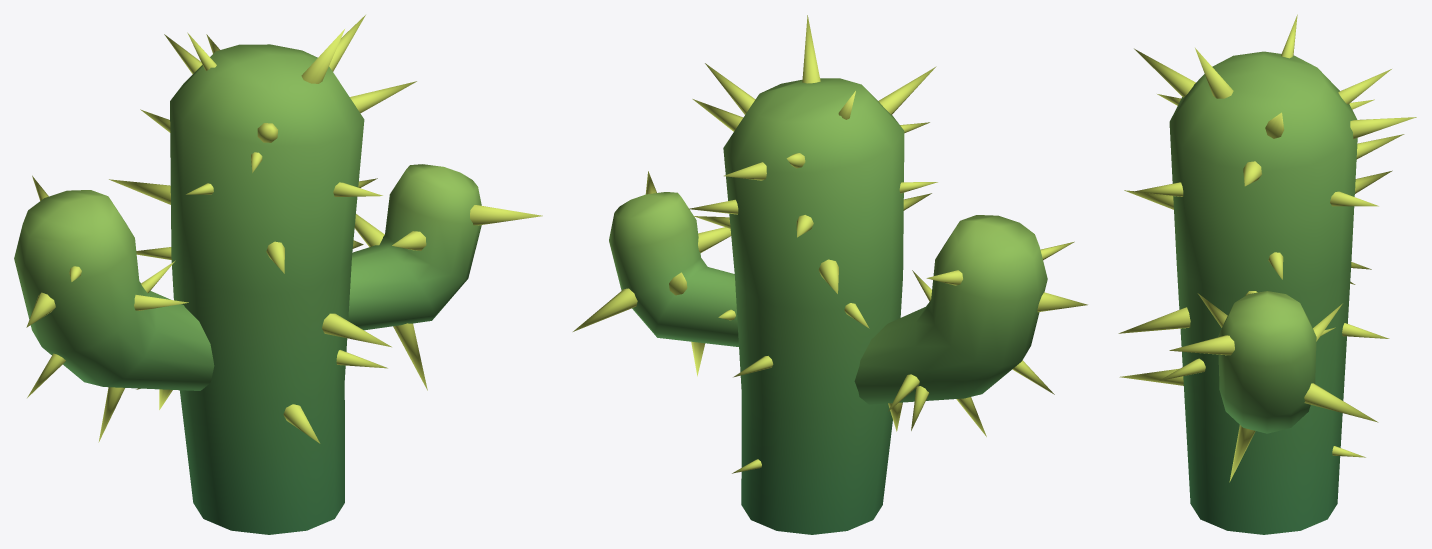
Rendered from cactus 01_toon_material_0.001.glb.
The picture shows the model from 3 angles, left to right: view 1: azimuth 30°, elevation 25°; view 2: azimuth 150°, elevation 25°; view 3: azimuth 270°, elevation 25°; orthographic projection. The views are drawn at different scales.
Visible parts, largest first — view 1: cactus 01_toon_material_0.001; view 2: cactus 01_toon_material_0.001; view 3: cactus 01_toon_material_0.001.
Part boxes in pixels (bbox=[...]): cactus 01_toon_material_0.001: bbox=[14, 15, 542, 534]; cactus 01_toon_material_0.001: bbox=[573, 15, 1087, 534]; cactus 01_toon_material_0.001: bbox=[1118, 14, 1416, 534].
Bounding box in the file's own units: 1.51 × 1.43 × 0.8161.
1 material, 1 textured.
